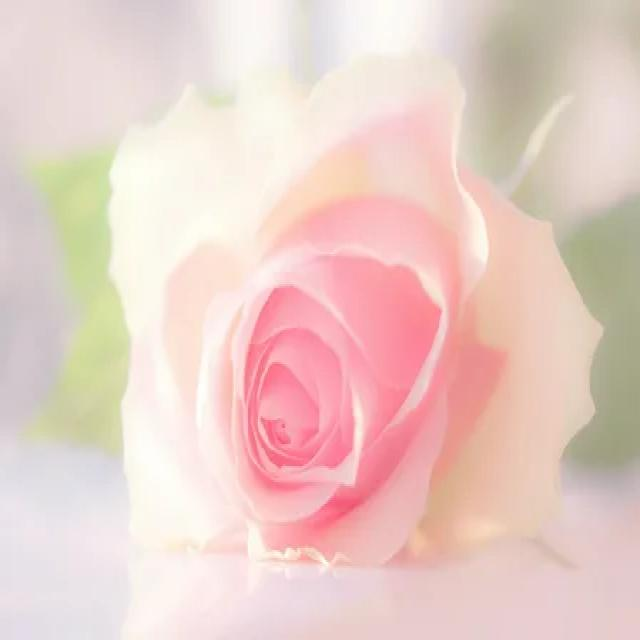rose: (98, 53, 608, 573)
